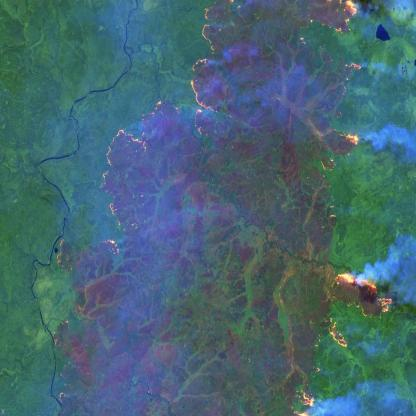fire: (285, 0, 394, 416), (92, 94, 182, 258), (192, 0, 238, 144)
